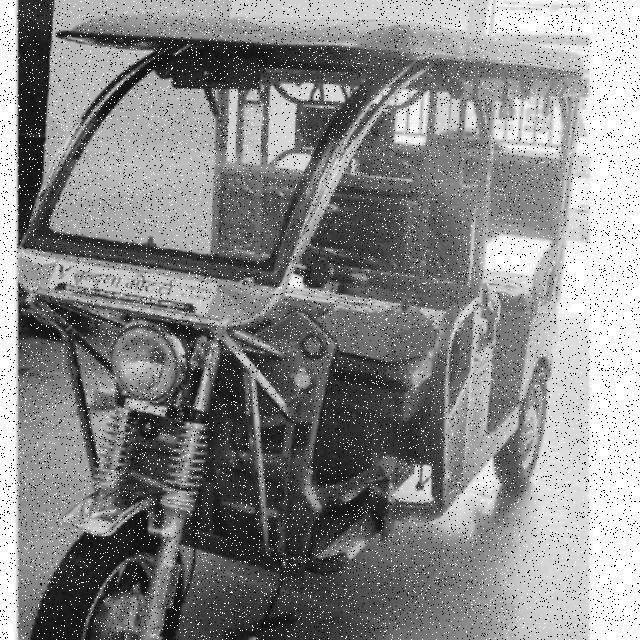Toto: (22, 12, 578, 640)
